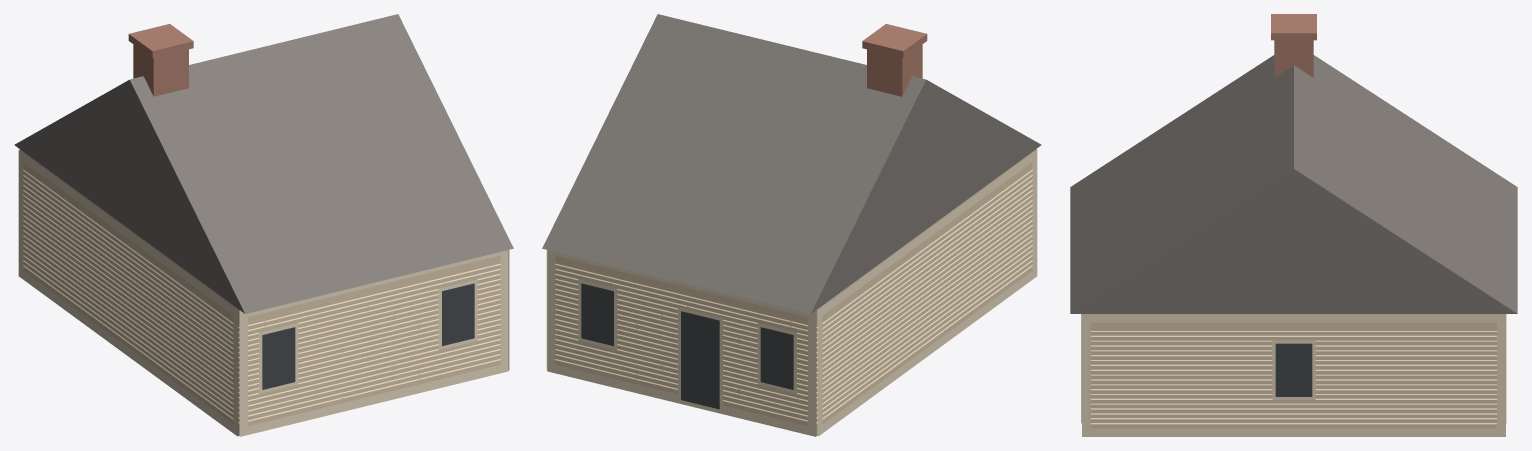
The model's file is recon_1835_blk_randolph_dearborn_d5_02__inferred_1835.glb.
The picture shows the model from 3 angles, left to right: view 1: azimuth 30°, elevation 25°; view 2: azimuth 150°, elevation 25°; view 3: azimuth 270°, elevation 25°; orthographic projection. The views are drawn at different scales.
Parts seen in each view (by area): view 1: recon_1835_blk_randolph_dearborn_d5_02__inferred_1835; view 2: recon_1835_blk_randolph_dearborn_d5_02__inferred_1835; view 3: recon_1835_blk_randolph_dearborn_d5_02__inferred_1835.
Part boxes in pixels (left/top/right/bottom): recon_1835_blk_randolph_dearborn_d5_02__inferred_1835: left=14, top=14, right=513, bottom=436; recon_1835_blk_randolph_dearborn_d5_02__inferred_1835: left=542, top=14, right=1041, bottom=436; recon_1835_blk_randolph_dearborn_d5_02__inferred_1835: left=1070, top=14, right=1517, bottom=436.
Bounding box in the file's own units: 6.47 × 7.07 × 9.53.
